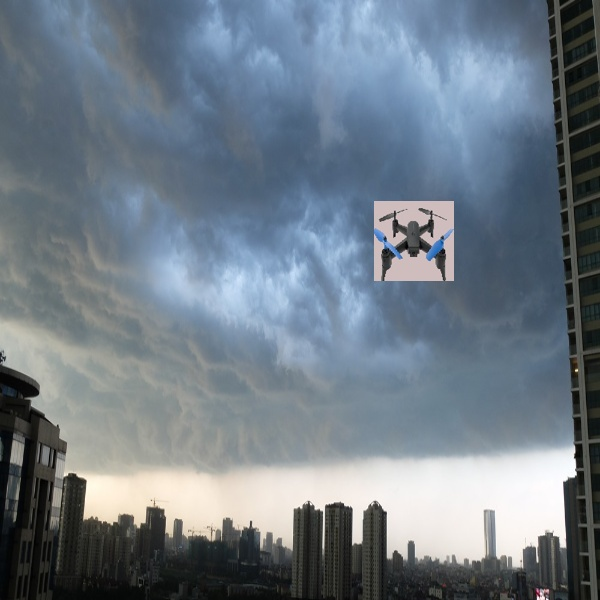drone: (374, 200, 455, 284)
